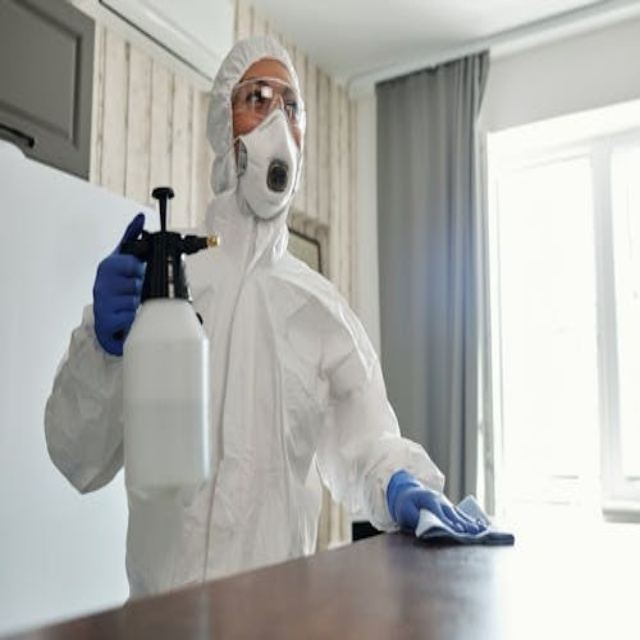Gafas: (231, 80, 306, 129)
Guantes: (93, 213, 149, 359), (386, 469, 486, 539)
Mascara: (234, 107, 300, 220)
